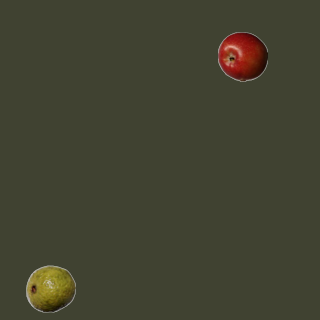Apple Braeburn: (217, 31, 267, 81)
Guava: (25, 263, 75, 313)
